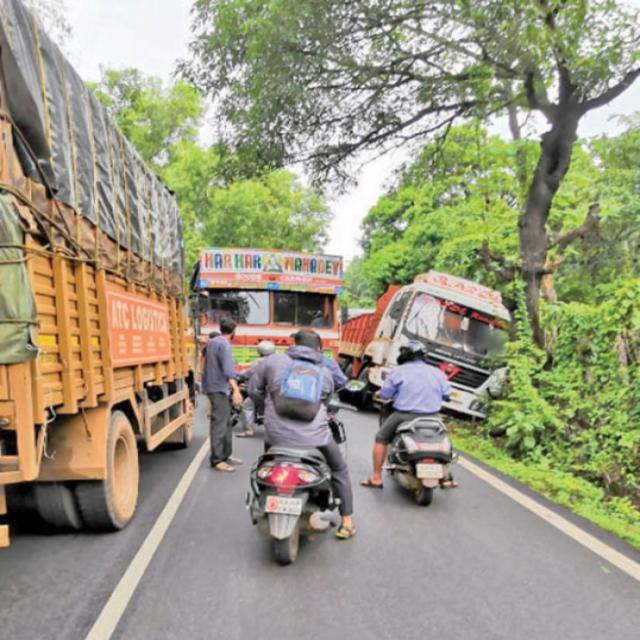motorcycle: (247, 329, 356, 563), (360, 340, 457, 504)
truck: (340, 271, 510, 418)
